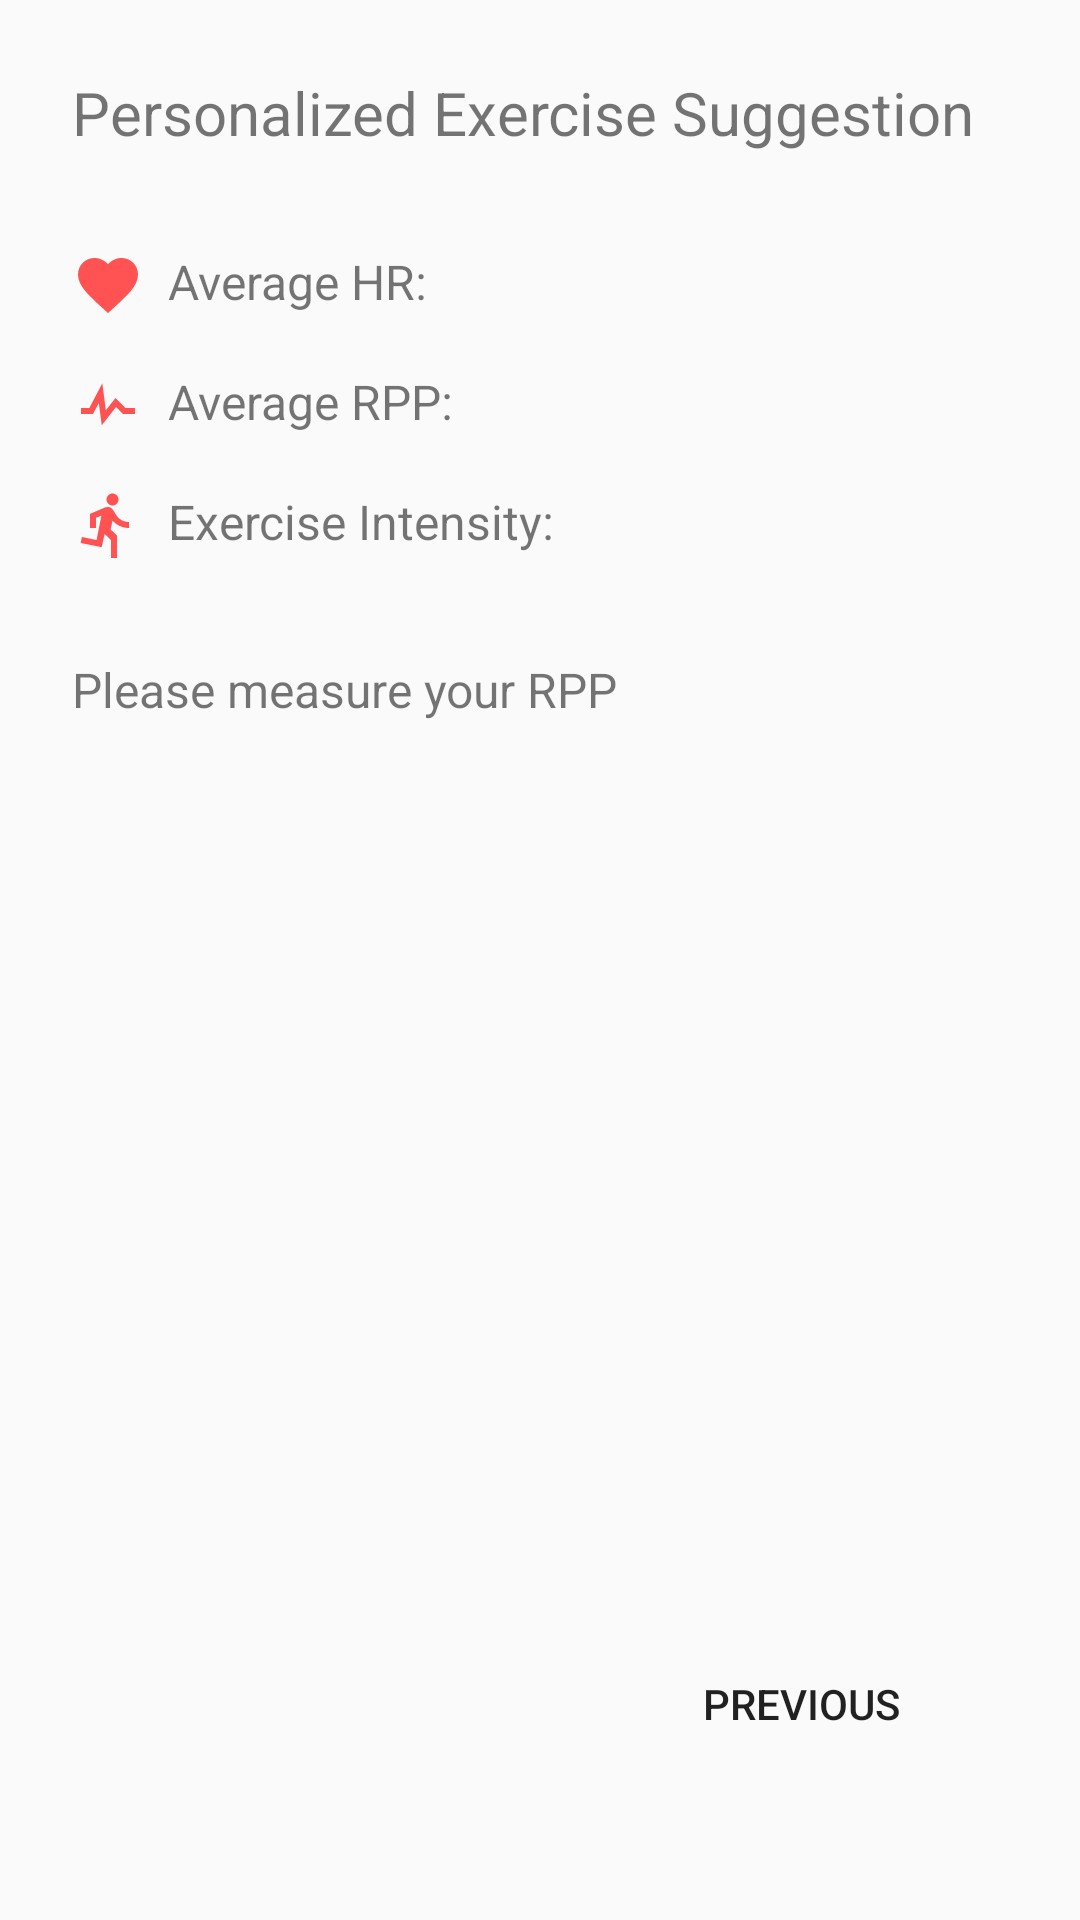

Point at icon controls on the screen. Image size 1080px x 1920px, points as (x=x, y=y).
This is a exerise icon: (x=104, y=525)
This is a heart icon: (x=108, y=285)
This is a pulse icon: (x=108, y=404)
